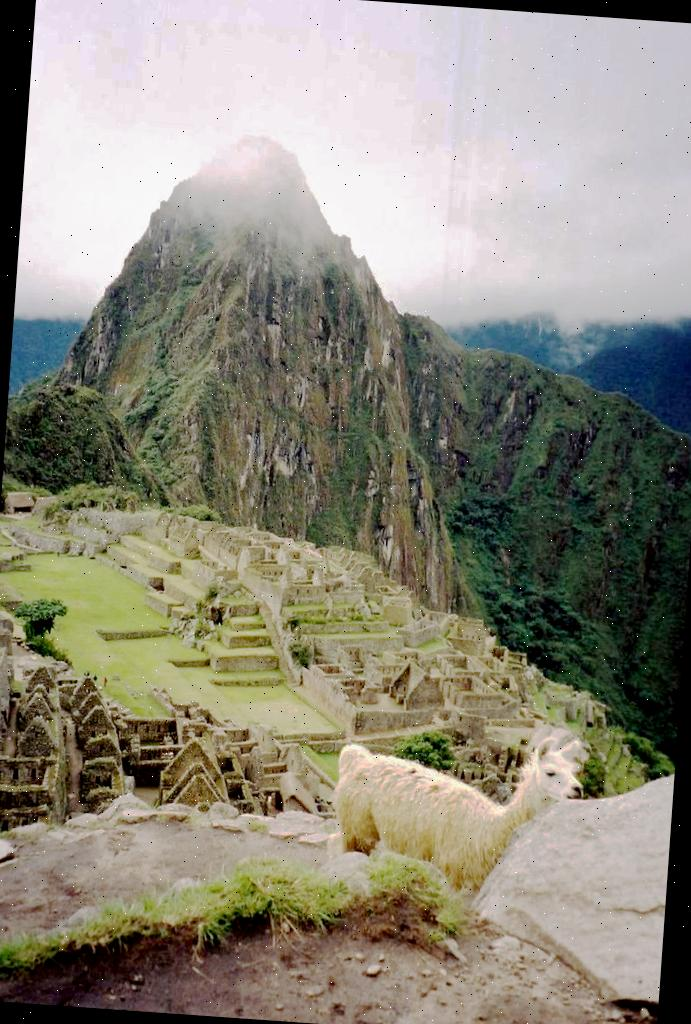Sheep: (323, 721, 583, 929)
